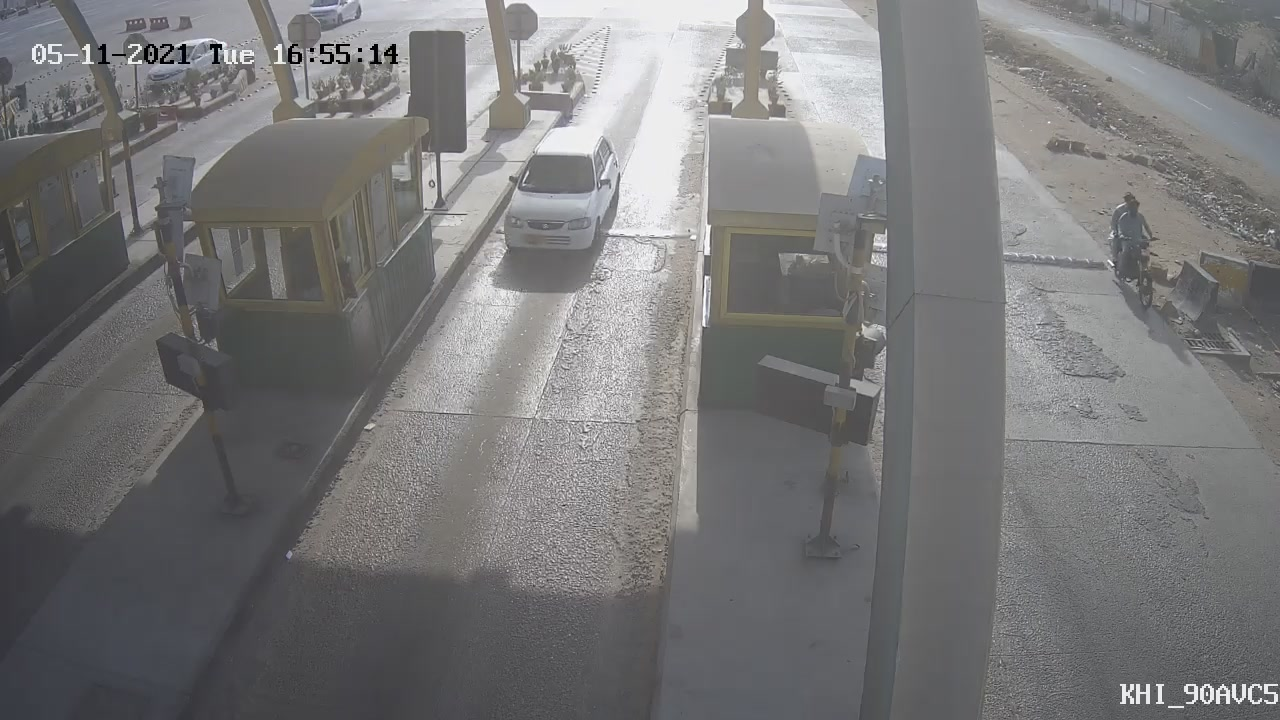F1: (479, 108, 642, 294)
